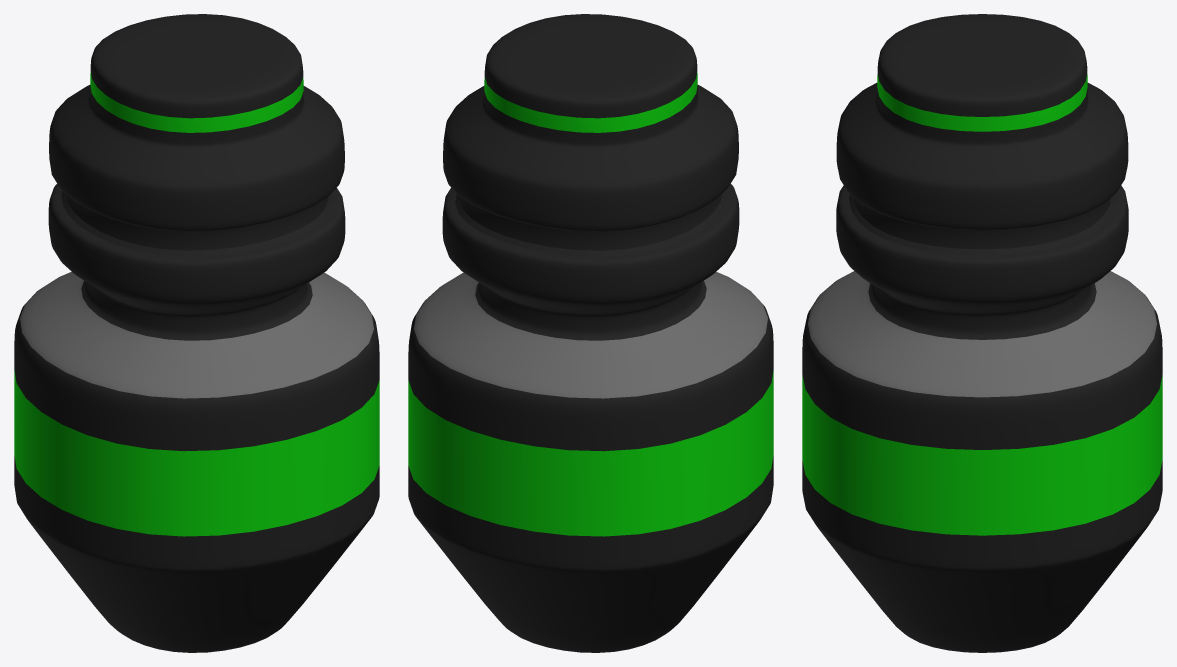
The model's file is Grenade.fbx.
3 renders of one model, left to right at view 1: azimuth 30°, elevation 25°; view 2: azimuth 150°, elevation 25°; view 3: azimuth 270°, elevation 25°, orthographic.
Visible parts, largest first — view 1: Grenade; view 2: Grenade; view 3: Grenade.
Part boxes in pixels (bbox=[...]): Grenade: bbox=[14, 14, 379, 652]; Grenade: bbox=[408, 14, 773, 652]; Grenade: bbox=[802, 14, 1162, 652].
Bounding box in the file's own units: 3.07 × 5.34 × 3.07.
